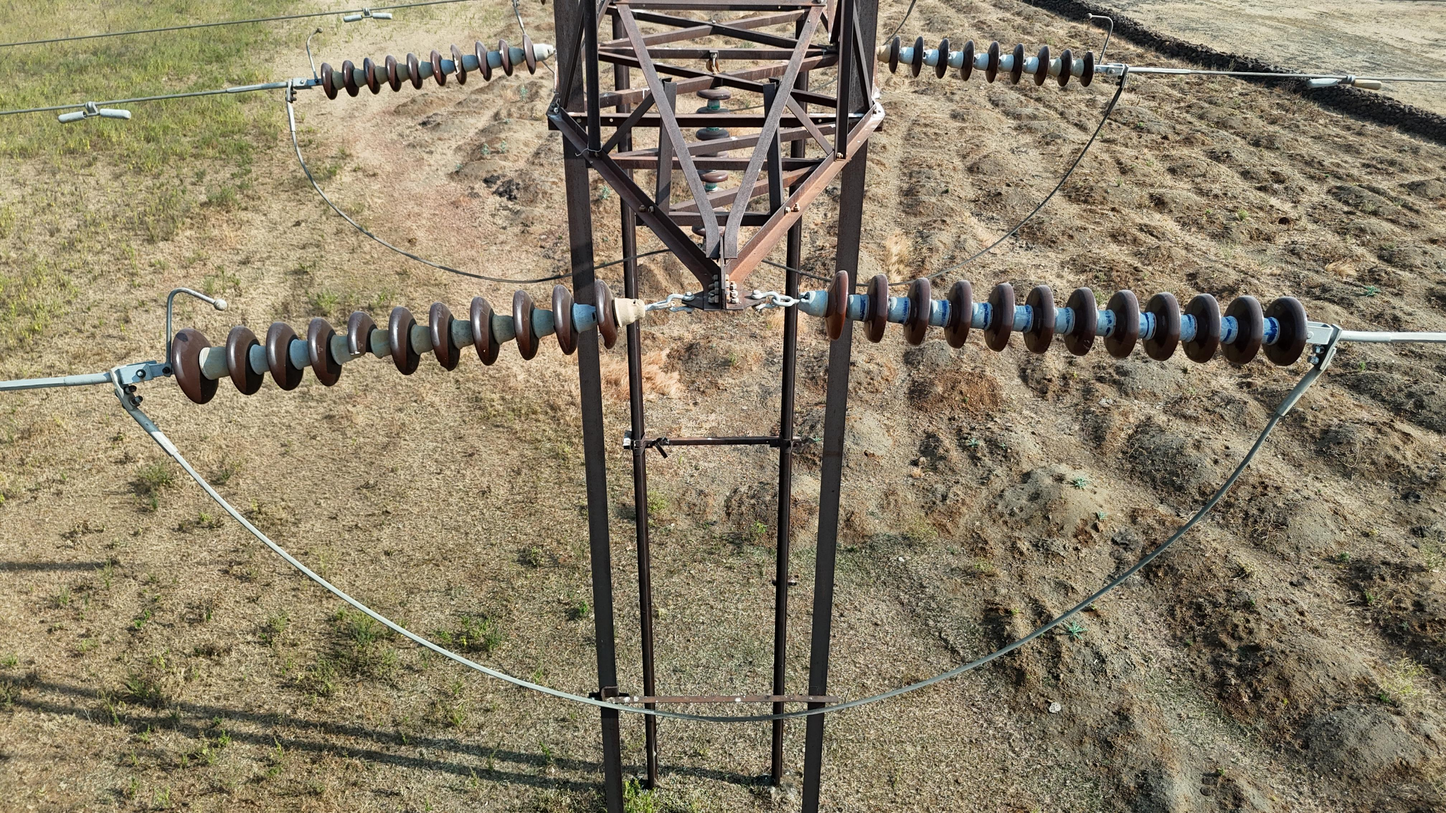broken_insulator: (346, 310, 380, 384), (429, 301, 460, 373), (593, 279, 617, 350), (448, 43, 468, 86), (1080, 49, 1096, 89)
